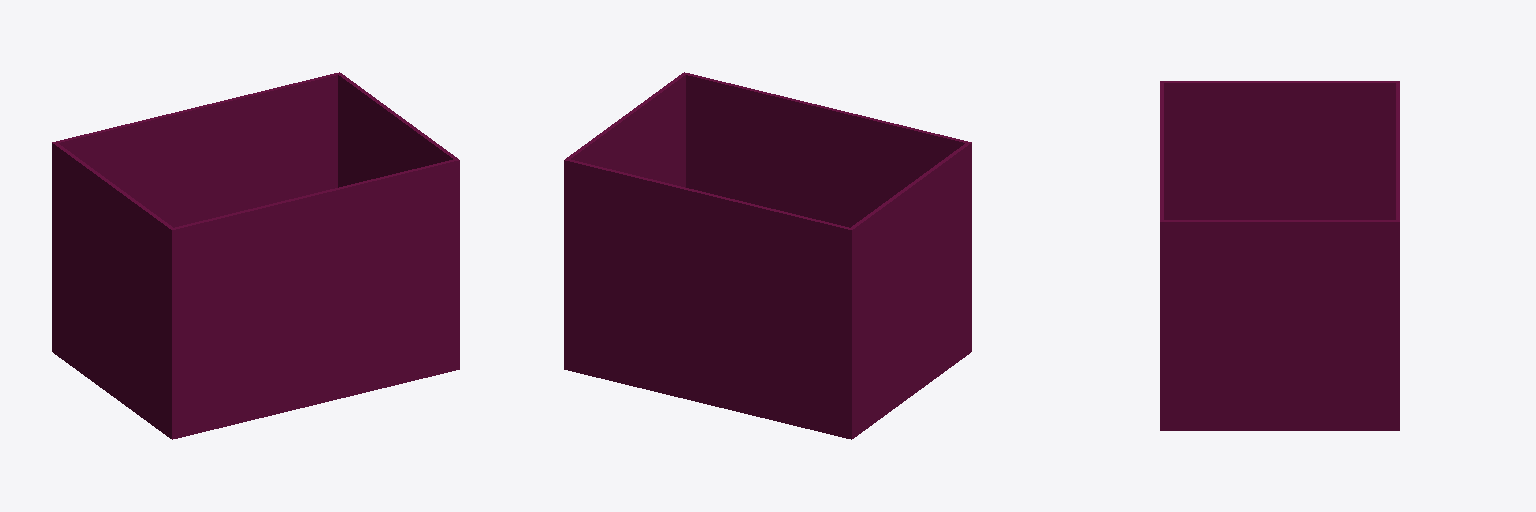
File: pizza-boxes-freezer-2.obj
The picture shows the model from 3 angles: view 1: azimuth 30°, elevation 25°; view 2: azimuth 150°, elevation 25°; view 3: azimuth 270°, elevation 25°; orthographic projection.
Parts seen in each view (by area): view 1: Object.4, Object.5, Object.2, Object.3; view 2: Object.5, Object.4, Object.2, Object.3; view 3: Object.3, Object.2, Object.4, Object.5.
Boxes of the visible parts, x1=… form: Object.4: x1=170, y1=159, x2=459, y2=439; Object.5: x1=52, y1=72, x2=341, y2=352; Object.2: x1=54, y1=143, x2=172, y2=437; Object.3: x1=338, y1=74, x2=457, y2=187; Object.5: x1=564, y1=159, x2=853, y2=439; Object.4: x1=682, y1=72, x2=971, y2=352; Object.2: x1=851, y1=143, x2=969, y2=437; Object.3: x1=566, y1=74, x2=685, y2=187; Object.3: x1=1164, y1=220, x2=1395, y2=430; Object.2: x1=1164, y1=81, x2=1395, y2=219; Object.4: x1=1160, y1=81, x2=1163, y2=430; Object.5: x1=1396, y1=81, x2=1399, y2=430.
Bounding box in the file's own units: 1440 × 1000 × 1040.